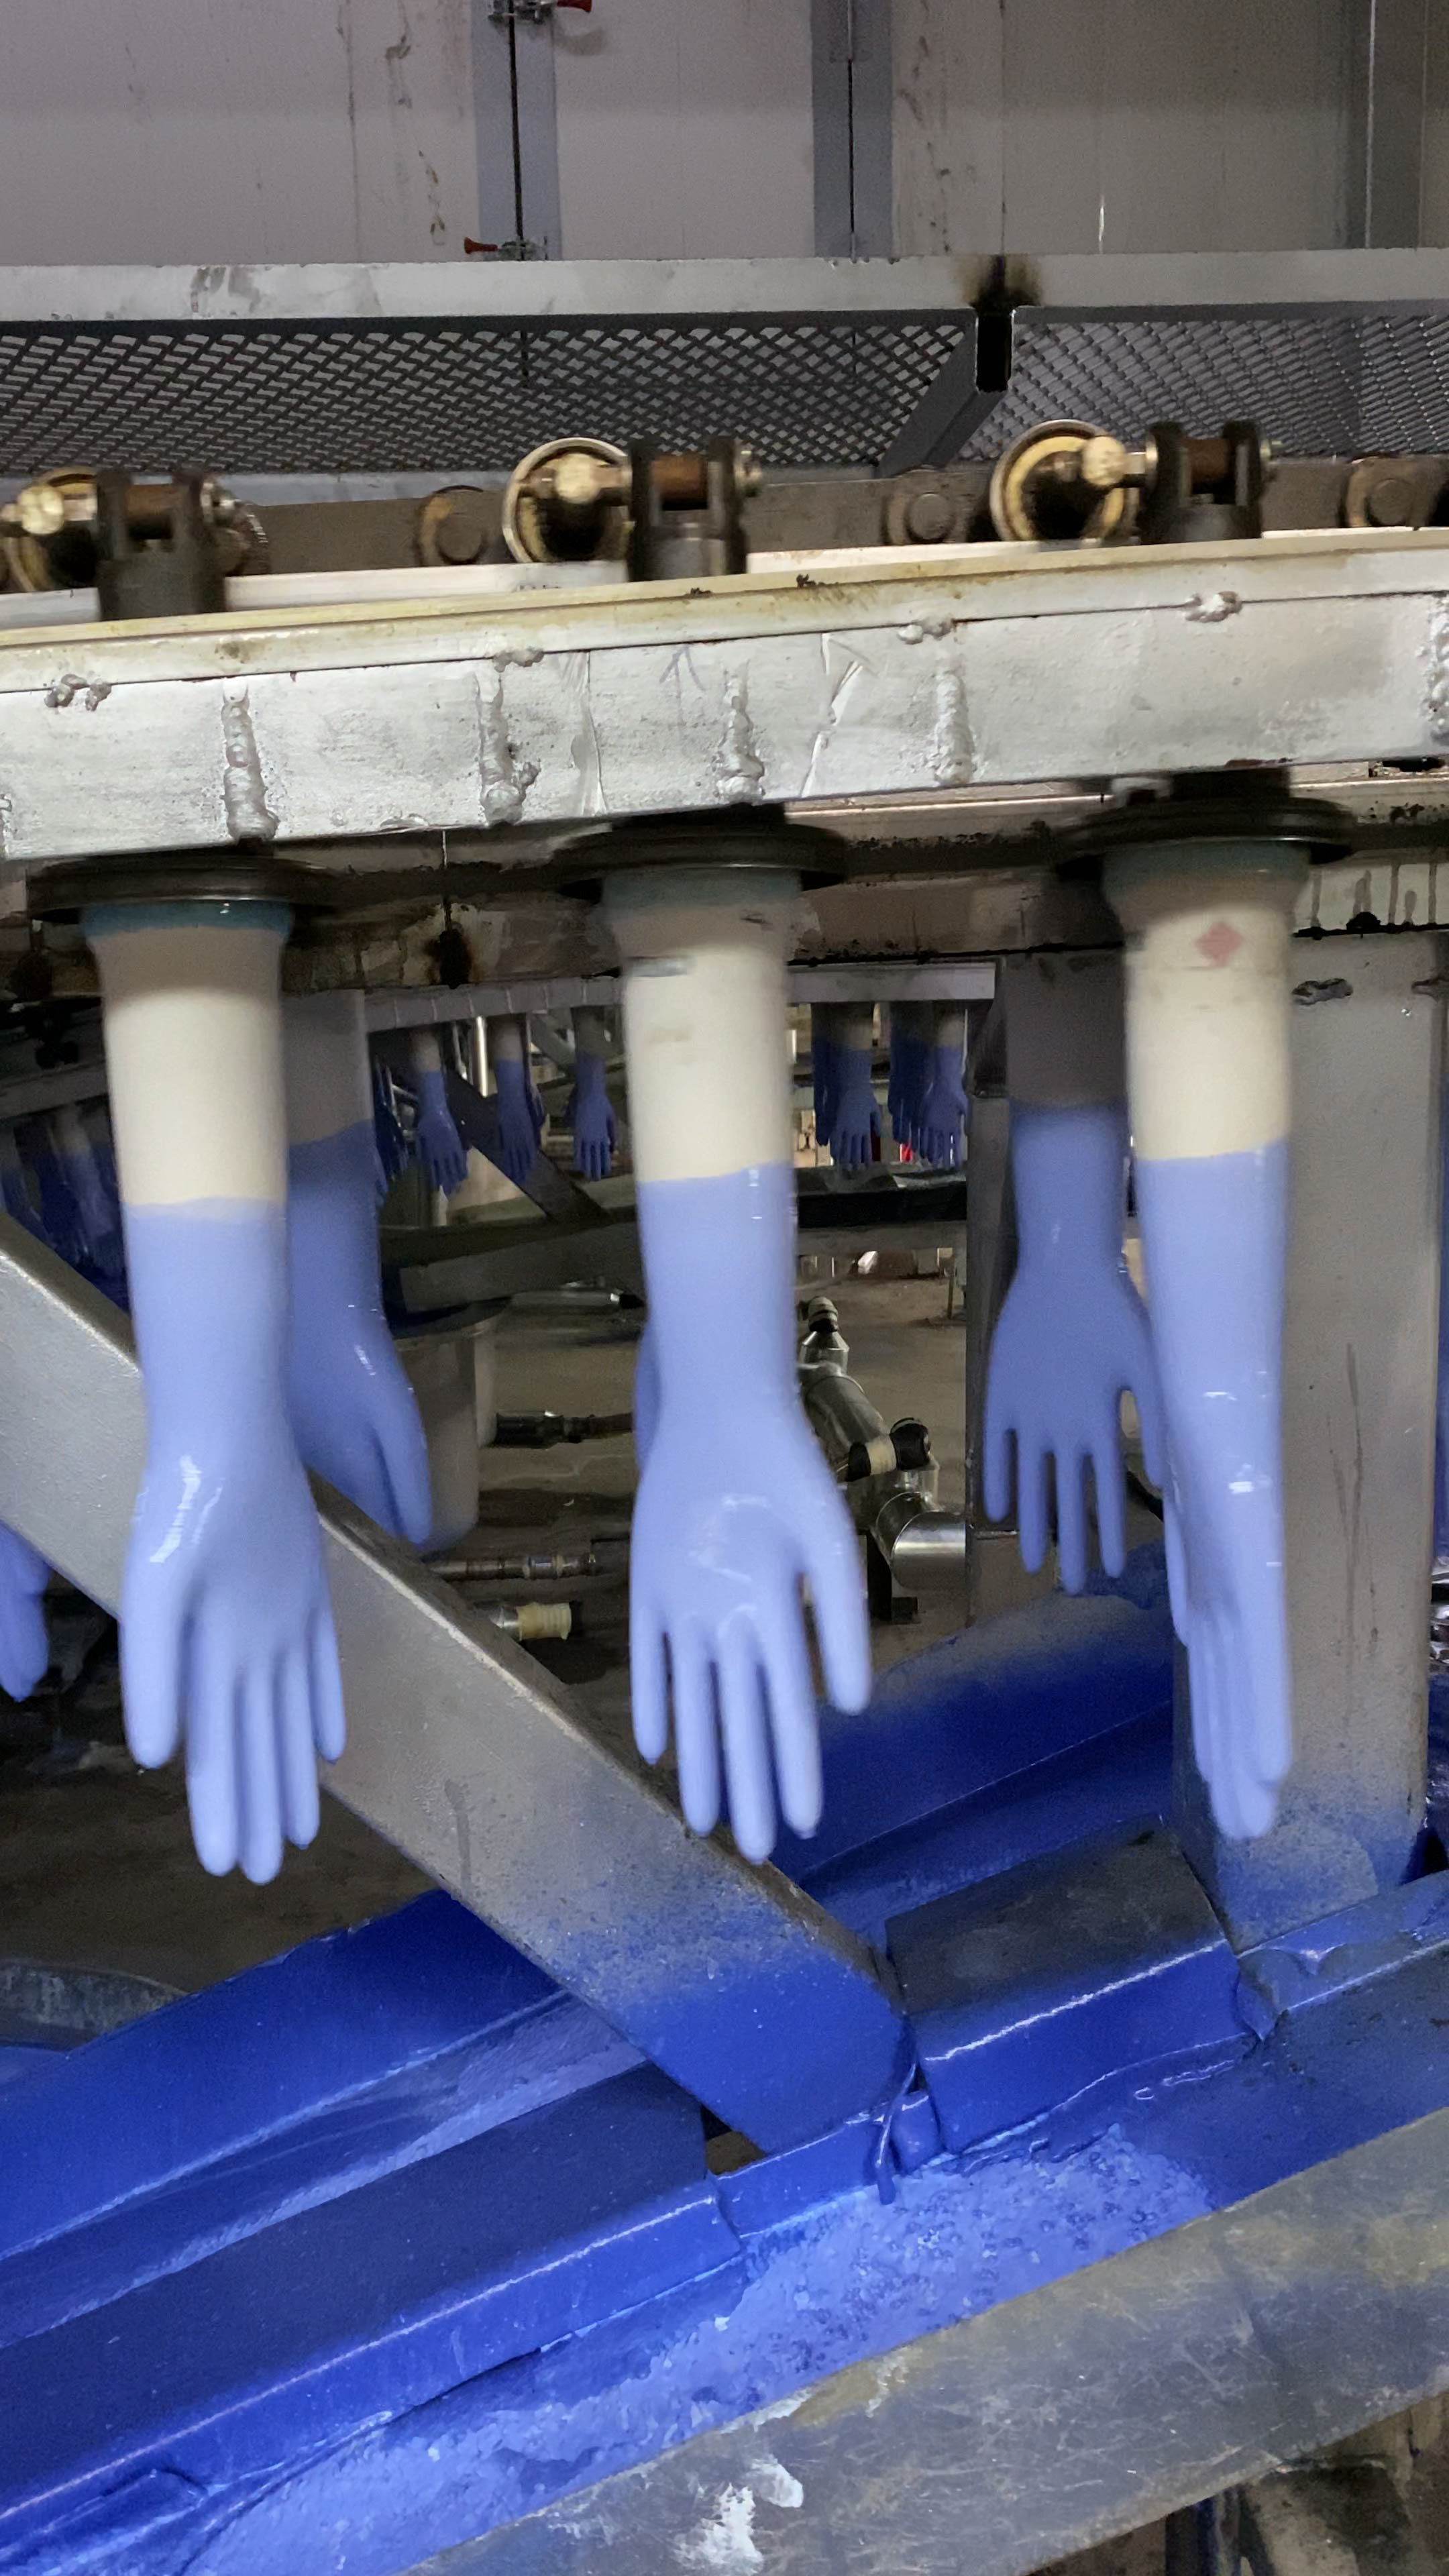glove: (628, 1168, 869, 1854), (119, 1200, 345, 1882), (1139, 1146, 1292, 1838), (985, 1108, 1166, 1591), (271, 1120, 432, 1550), (416, 1069, 469, 1194), (830, 1049, 883, 1171), (570, 1062, 617, 1177), (922, 1054, 966, 1164), (494, 1063, 534, 1177), (888, 1054, 925, 1150)
